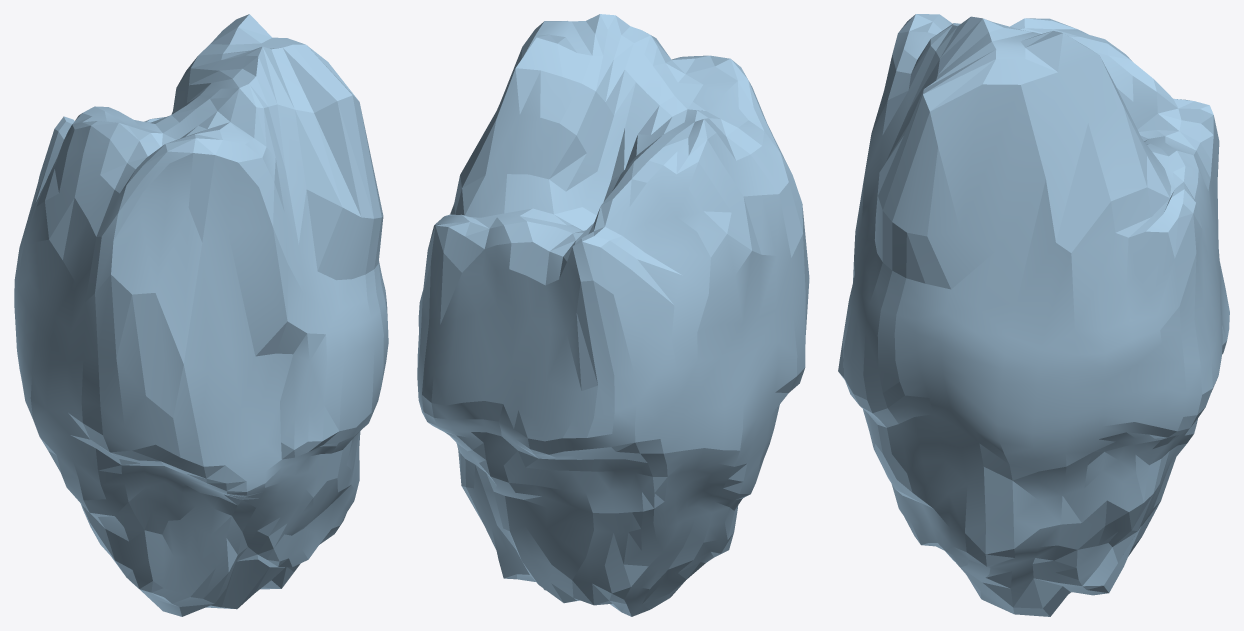
The model's file is iceberg00.fbx.
3 views of the same model, side by side, from view 1: azimuth 30°, elevation 25°; view 2: azimuth 150°, elevation 25°; view 3: azimuth 270°, elevation 25° (orthographic). The views are drawn at different scales.
Parts seen in each view (by area): view 1: Cube.007; view 2: Cube.007; view 3: Cube.007.
Boxes of the visible parts, <box> form: Cube.007: <box>14,14,388,616</box>; Cube.007: <box>417,14,809,616</box>; Cube.007: <box>838,14,1229,616</box>.
Size of the model in its own units: 29.33 by 51.24 by 30.93.
